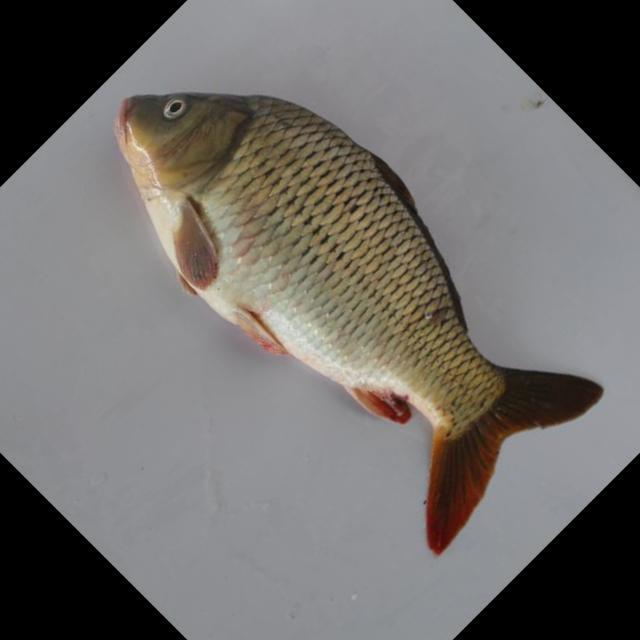CommonCarp: (110, 81, 604, 561)
